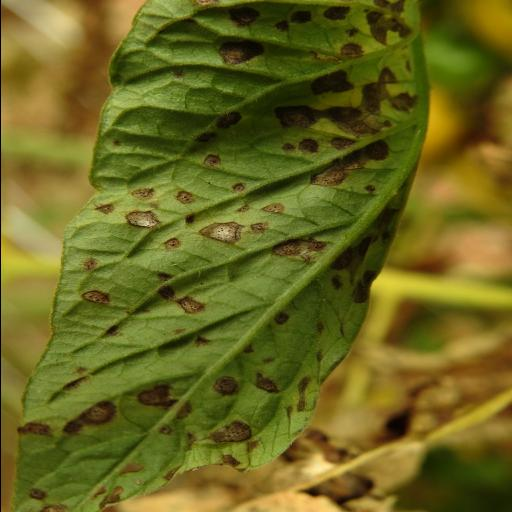Septoria: (13, 1, 455, 507)
